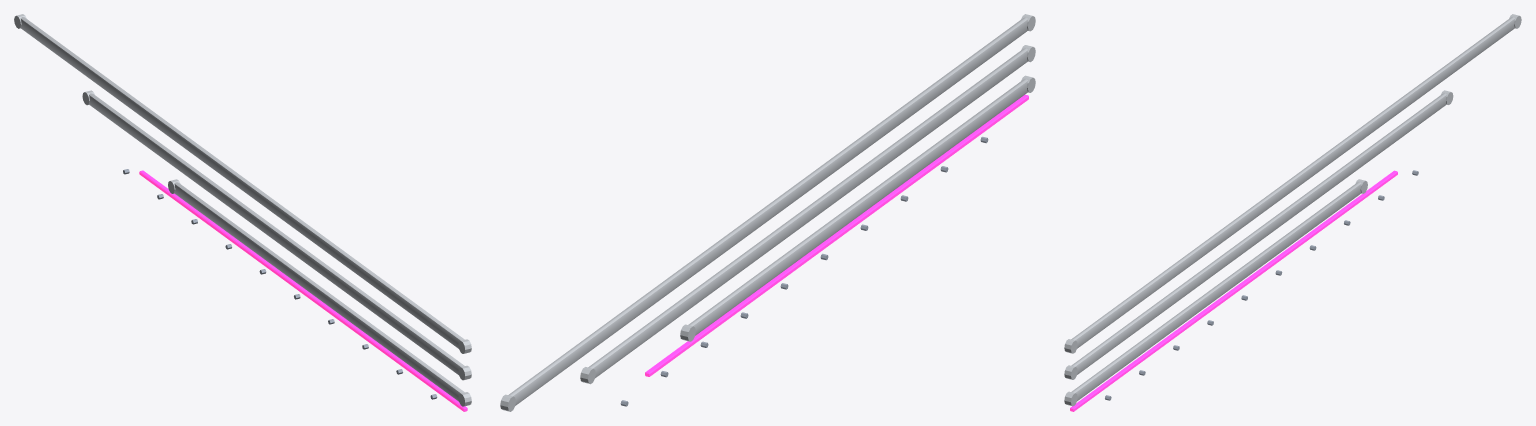
File: side_trim_set.glb
3 renders of one model, left to right at view 1: azimuth 30°, elevation 25°; view 2: azimuth 150°, elevation 25°; view 3: azimuth 330°, elevation 25°, orthographic. The views are drawn at different scales.
Parts seen in each view (by area): view 1: chrome, lamp_pink; view 2: chrome, lamp_pink; view 3: chrome, lamp_pink.
Boxes of the visible parts, left/top/right/bottom form: chrome: left=14, top=14, right=471, bottom=406; lamp_pink: left=139, top=170, right=467, bottom=411; chrome: left=500, top=14, right=1035, bottom=411; lamp_pink: left=645, top=94, right=1028, bottom=376; chrome: left=1064, top=14, right=1521, bottom=406; lamp_pink: left=1070, top=170, right=1397, bottom=411.
Bounding box in the file's own units: 0.0575 × 0.5402 × 5.28.
